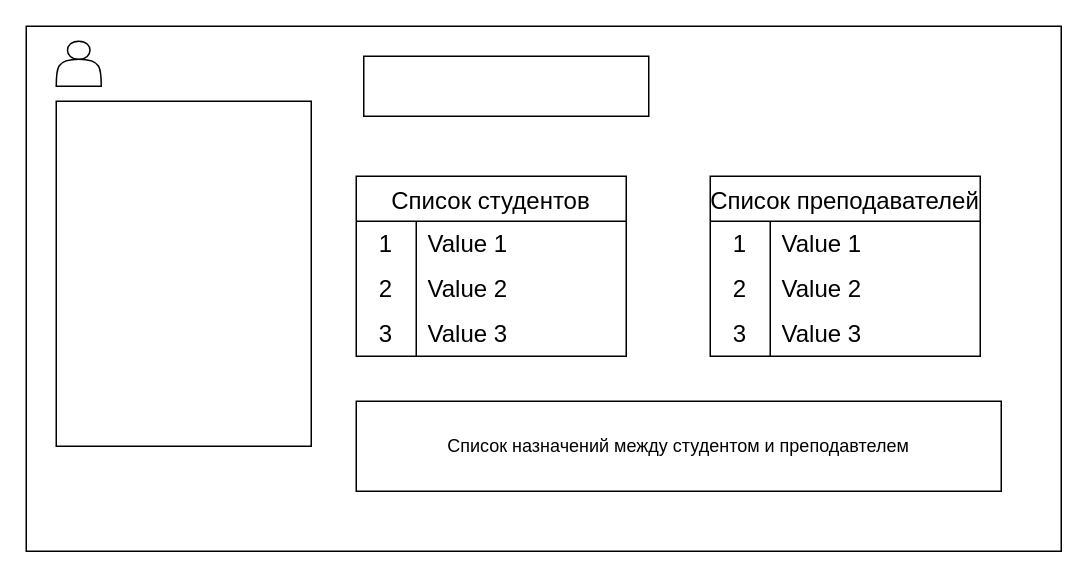
Image size: 1088x578. Some labels were removed from this diagram. Here are the shapes that lost their labels. From the top down, the centre of each, then its label:
At (x=505, y=85): "добавить пользователя".
At (x=183, y=273): "Navigation bar".
